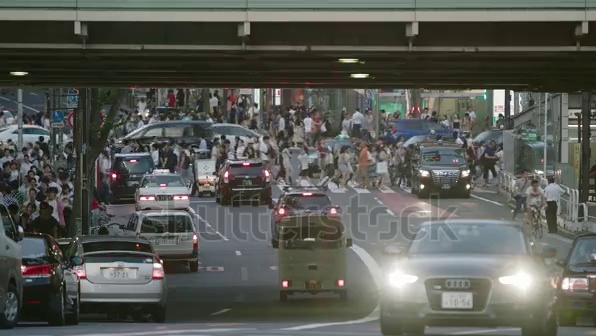licenseplate: (437, 291, 482, 311)
